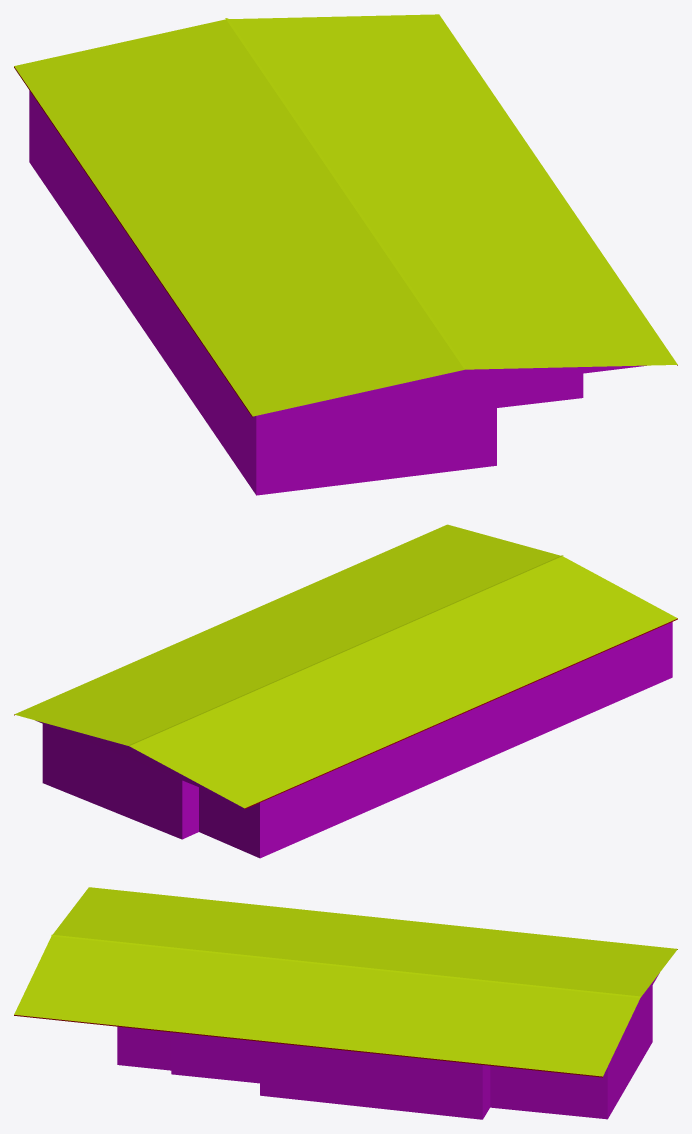
File: bgj_420.glb
3 views of the same model, one above another, from view 1: azimuth 30°, elevation 25°; view 2: azimuth 150°, elevation 25°; view 3: azimuth 270°, elevation 25° (orthographic). The views are drawn at different scales.
Visible parts, largest first — view 1: bgj_420; view 2: bgj_420; view 3: bgj_420.
Part boxes in pixels (x1,y1,x2,y2): bgj_420: [14, 14, 677, 495]; bgj_420: [14, 524, 677, 858]; bgj_420: [14, 887, 677, 1119].
Size of the model in its own units: 47.77 by 8.62 by 70.76.
